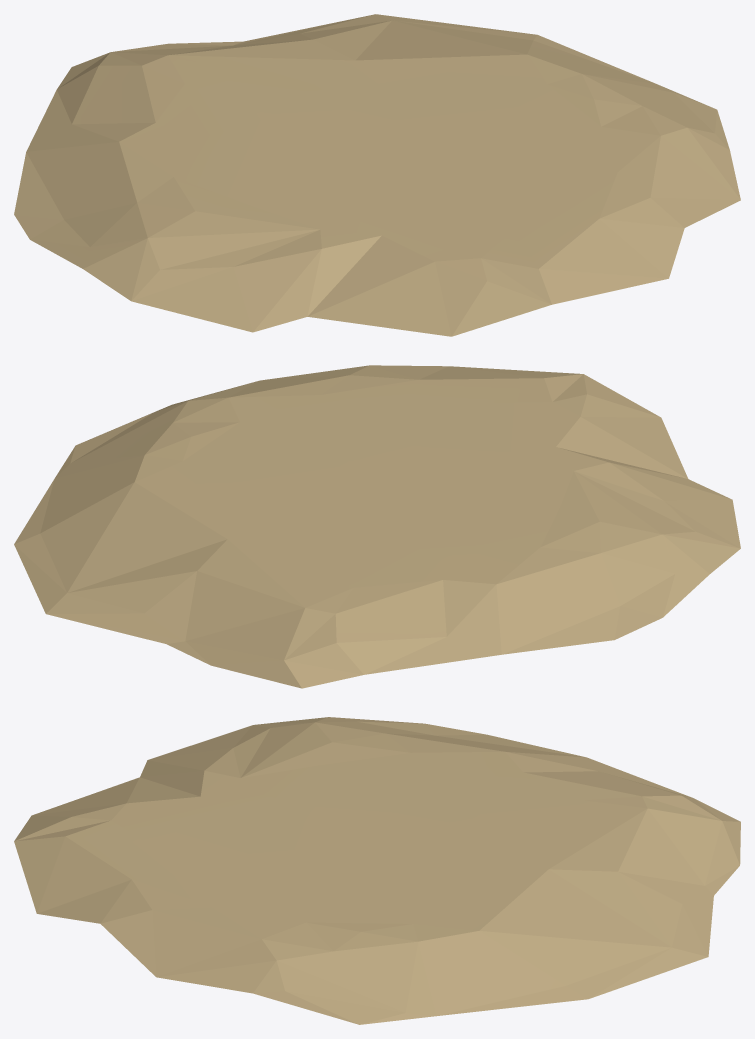
Rendered from SOP_Island_01.fbx.
The picture shows the model from 3 angles, top to bottom: view 1: azimuth 30°, elevation 25°; view 2: azimuth 150°, elevation 25°; view 3: azimuth 270°, elevation 25°; orthographic projection. The views are drawn at different scales.
Visible parts, largest first — view 1: Island_01; view 2: Island_01; view 3: Island_01.
Boxes of the visible parts, x1,y1,x2,y2 form: Island_01: (14,14,740,336); Island_01: (14,365,740,688); Island_01: (14,717,740,1024).
Size of the model in its own units: 18.29 by 1.16 by 18.85.
